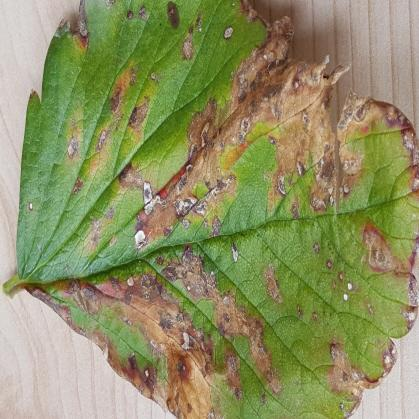Angular Leafspot: (16, 0, 418, 418)
